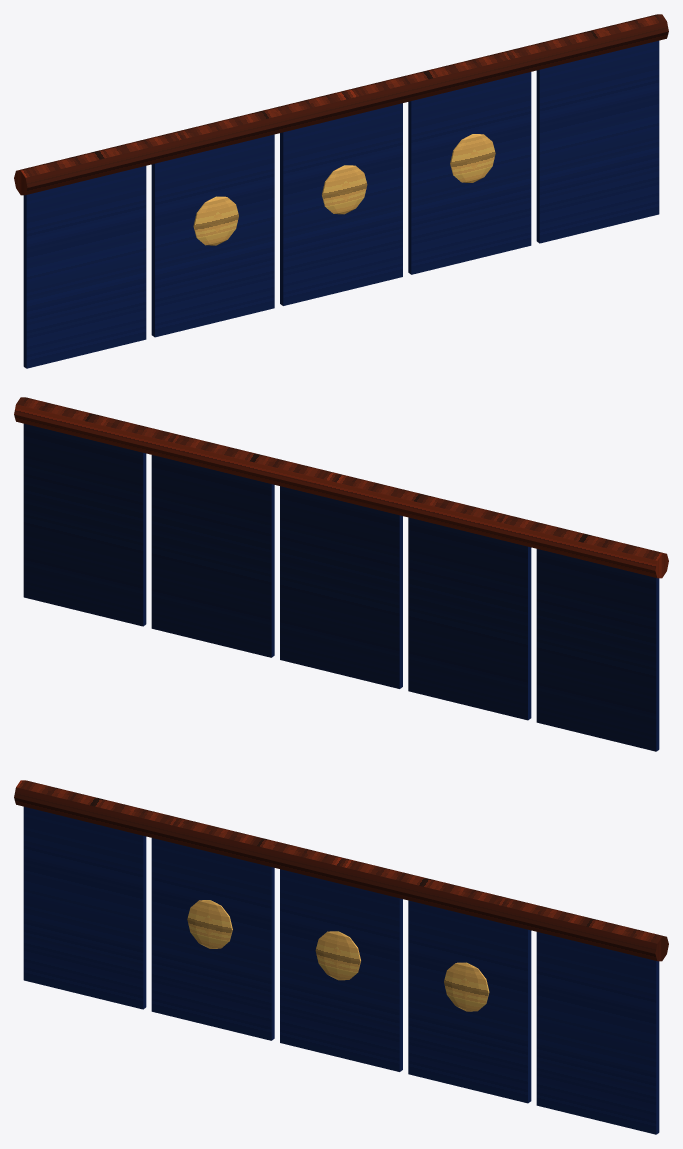
The model's file is noren.glb.
The picture shows the model from 3 angles, top to bottom: view 1: azimuth 30°, elevation 25°; view 2: azimuth 150°, elevation 25°; view 3: azimuth 330°, elevation 25°; orthographic projection.
Visible parts, largest first — view 1: Body; view 2: Body; view 3: Body.
Boxes of the visible parts, x1=… form: Body: x1=14, y1=14, x2=668, y2=368; Body: x1=14, y1=397, x2=668, y2=751; Body: x1=14, y1=780, x2=668, y2=1134.
Size of the model in its own units: 3 by 0.885 by 0.11.
3 materials, 3 textured.
